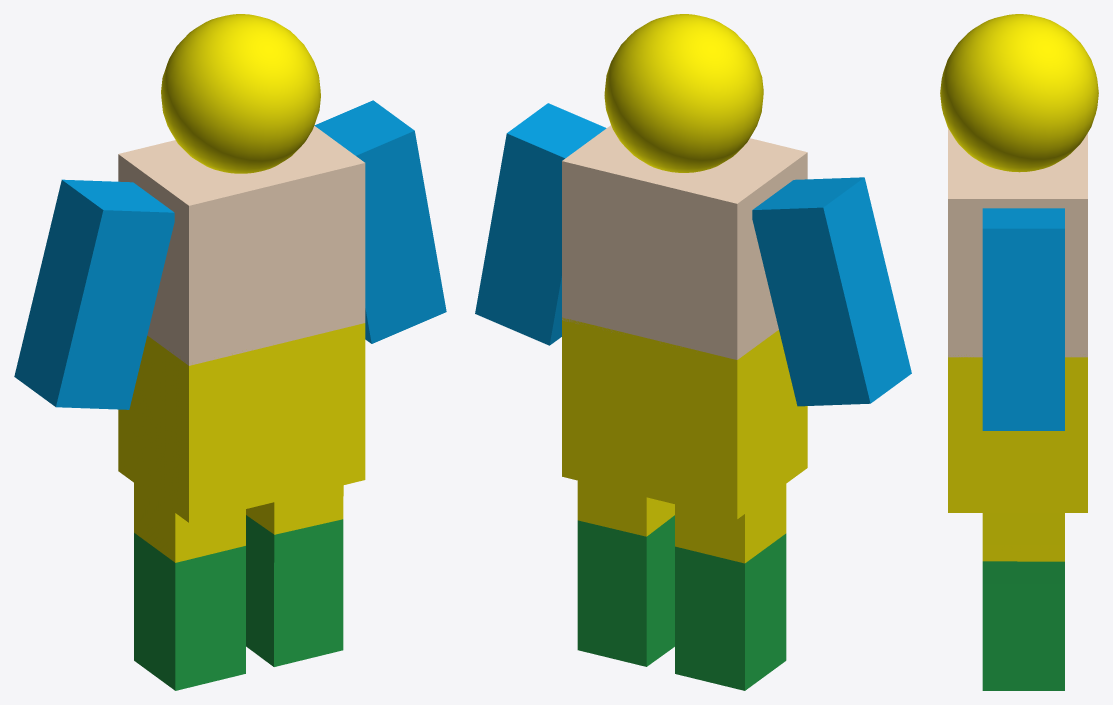
File: Palyer.FBX
3 views of the same model, side by side, from view 1: azimuth 30°, elevation 25°; view 2: azimuth 150°, elevation 25°; view 3: azimuth 270°, elevation 25° (orthographic).
Visible parts, largest first — view 1: Box001, Box007, Box006, Sphere001, Box003, Box002, Box005; view 2: Box001, Box007, Box006, Sphere001, Box003, Box005, Box002; view 3: Sphere001, Box005, Box007, Box001, Box002.
Boxes of the visible parts, bbox=[...] form: Box001: bbox=[118, 126, 365, 365]; Box007: bbox=[118, 323, 365, 522]; Box006: bbox=[14, 179, 174, 409]; Sphere001: bbox=[161, 14, 320, 173]; Box003: bbox=[134, 483, 245, 690]; Box002: bbox=[246, 485, 343, 666]; Box005: bbox=[314, 100, 446, 343]; Box001: bbox=[562, 125, 807, 359]; Box007: bbox=[562, 317, 807, 519]; Box006: bbox=[752, 177, 911, 406]; Sphere001: bbox=[604, 14, 763, 172]; Box003: bbox=[675, 484, 786, 690]; Box005: bbox=[475, 103, 606, 345]; Box002: bbox=[577, 480, 674, 666]; Sphere001: bbox=[940, 14, 1098, 172]; Box005: bbox=[982, 208, 1064, 430]; Box007: bbox=[948, 355, 1087, 512]; Box001: bbox=[948, 128, 1087, 357]; Box002: bbox=[982, 513, 1064, 690].
Bounding box in the file's own units: 76.48 × 26.96 × 118.
4 materials, 4 textured.
